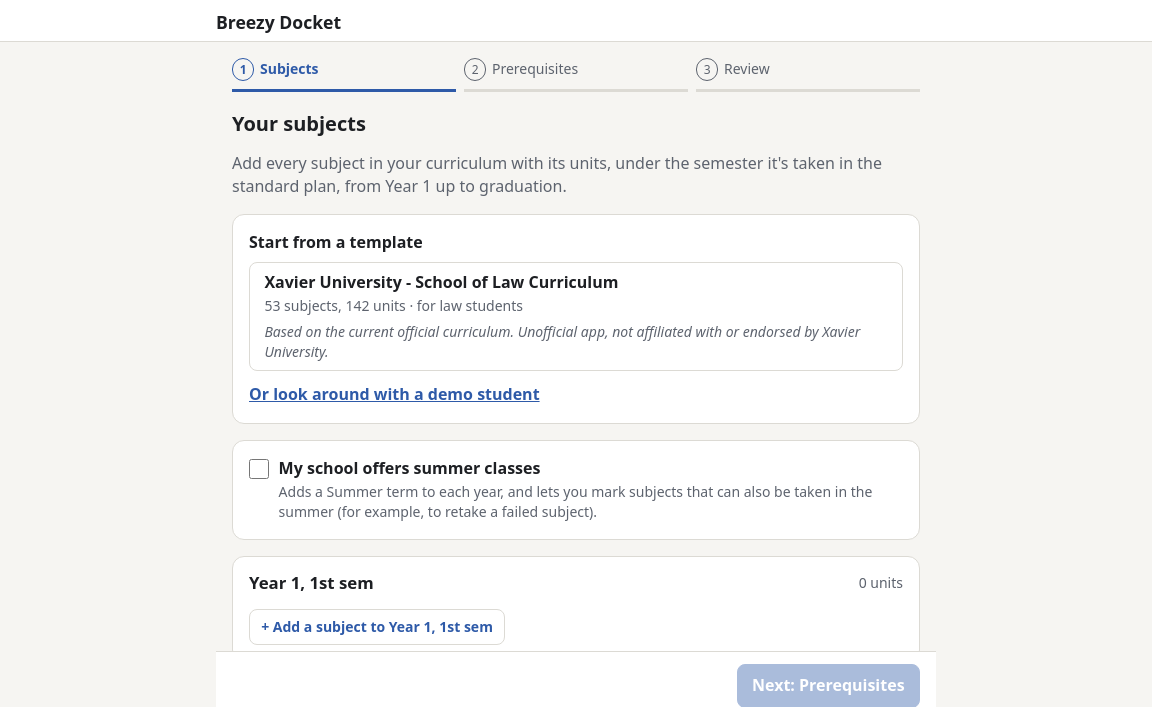
Test: working subjects › the demo: past semesters with results, the current one, and what moved
Click the button "Or look around with a demo student" at (394, 395), box [249, 383, 540, 406]
(page scrolled)
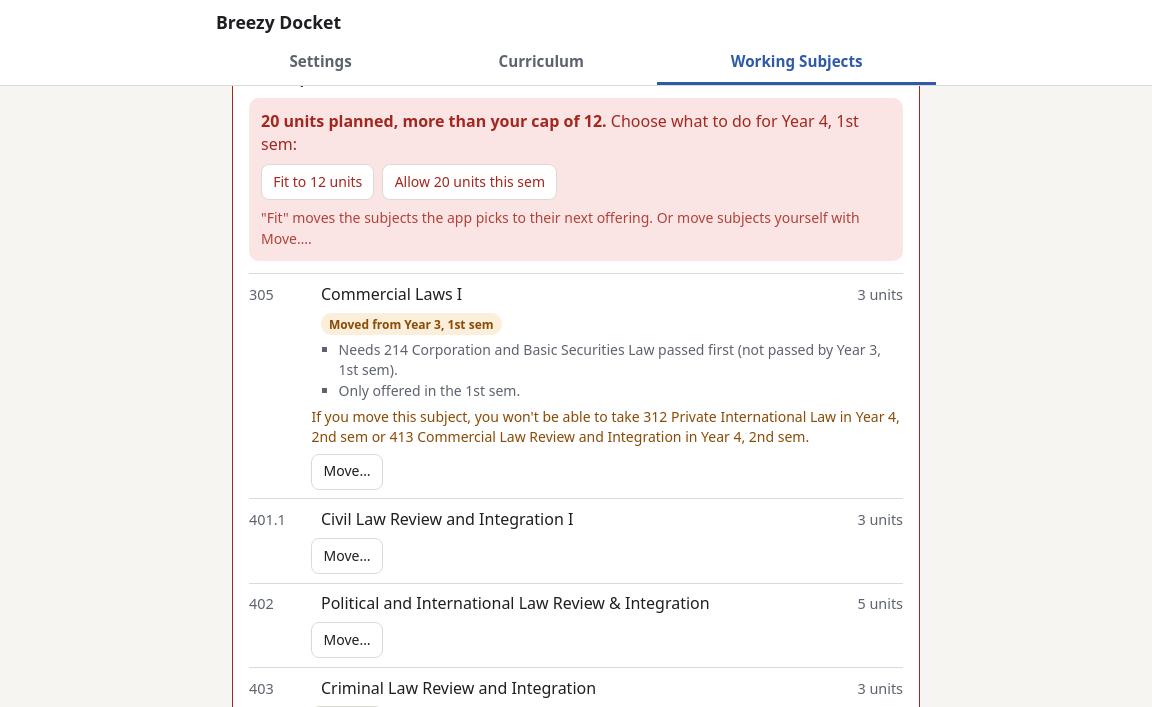
Check: the buttons read "Settings", "Curriculum", "Working Subjects", in this order, box [216, 41, 425, 85]; [425, 41, 657, 85]; [657, 41, 936, 85]
Check: the list item "Needs 214 Corporation and Basic Securities Law passed first" is shown, box [339, 340, 881, 379]
